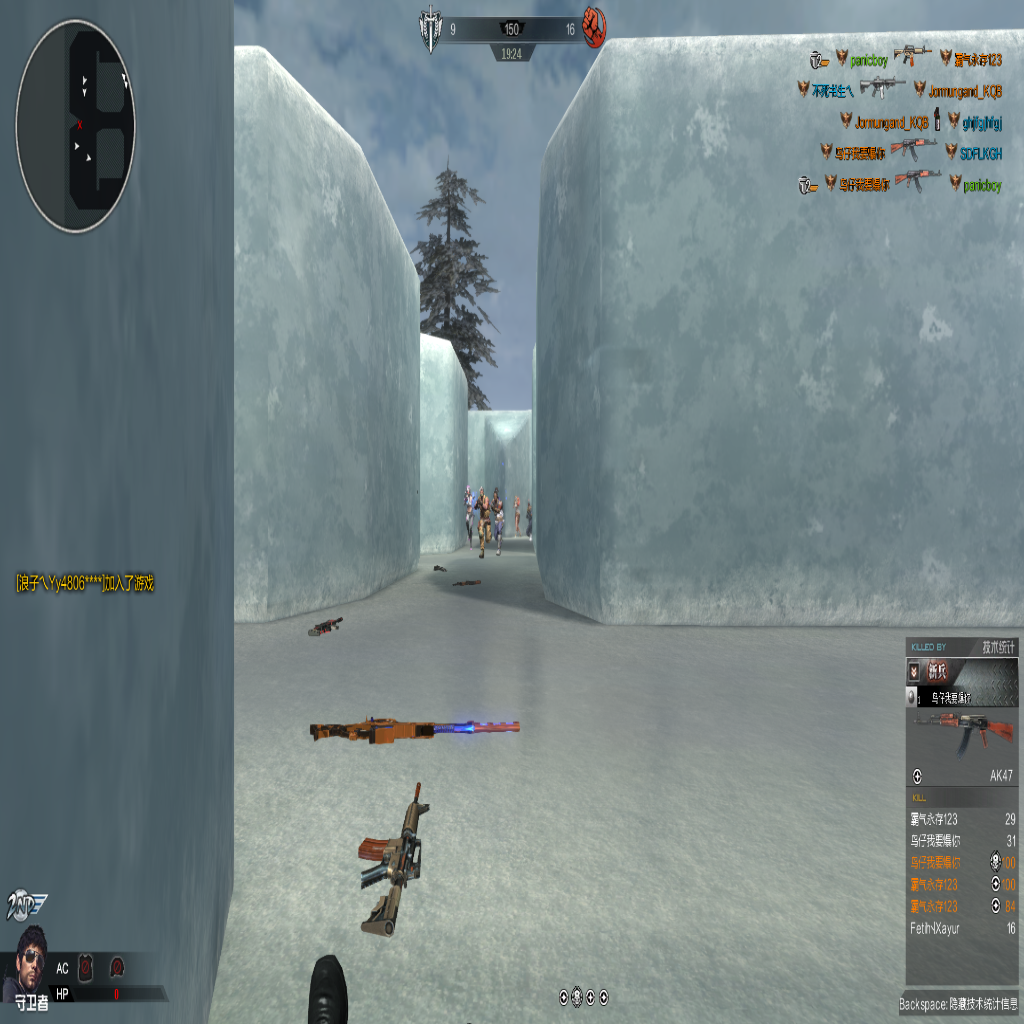tt: (476, 487, 490, 553), (491, 487, 504, 554), (465, 485, 474, 547), (513, 495, 521, 537), (525, 500, 532, 539)
